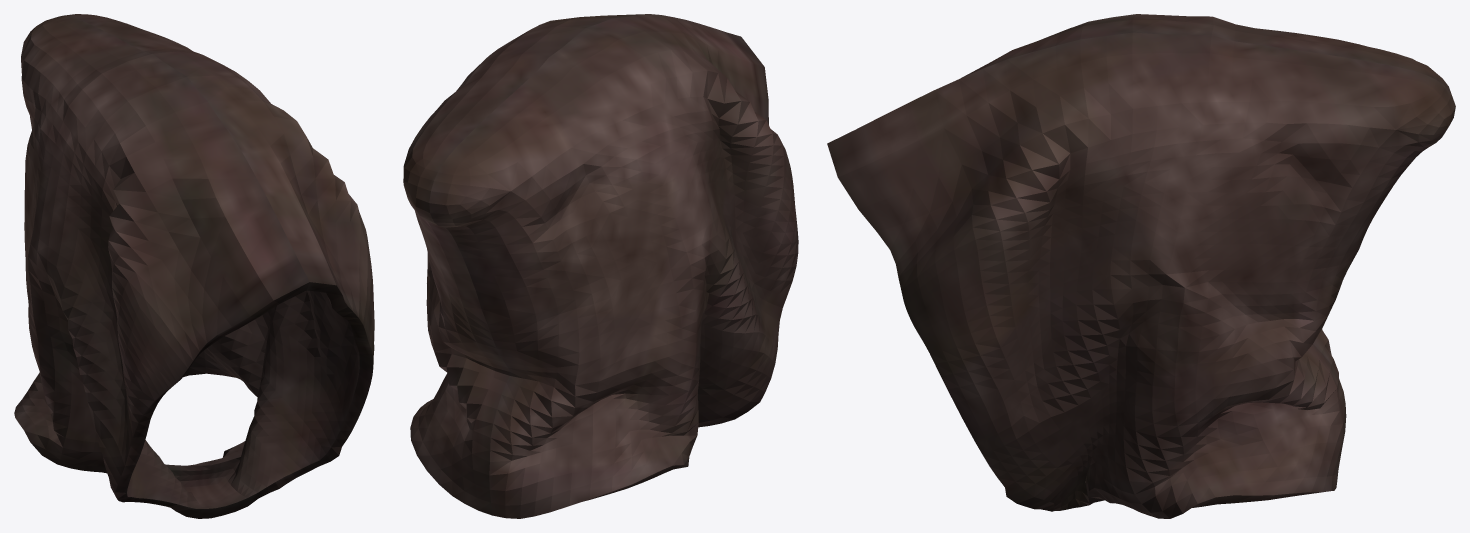
Rendered from mhw_donitz_monk_robe_hood.glb.
3 renders of one model, left to right at view 1: azimuth 30°, elevation 25°; view 2: azimuth 150°, elevation 25°; view 3: azimuth 270°, elevation 25°, orthographic. The views are drawn at different scales.
Parts seen in each view (by area): view 1: mhw_donitz_monk_robe_hood; view 2: mhw_donitz_monk_robe_hood; view 3: mhw_donitz_monk_robe_hood.
Part boxes in pixels (left/top/right/bottom): mhw_donitz_monk_robe_hood: left=14, top=14, right=374, bottom=518; mhw_donitz_monk_robe_hood: left=403, top=14, right=798, bottom=518; mhw_donitz_monk_robe_hood: left=827, top=14, right=1455, bottom=518.
Size of the model in its own units: 0.2078 by 0.3239 by 0.3929.
1 material, 1 textured.
